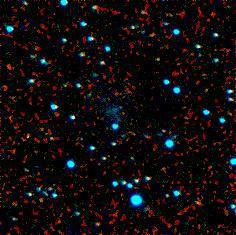star: (24, 185, 54, 215)
